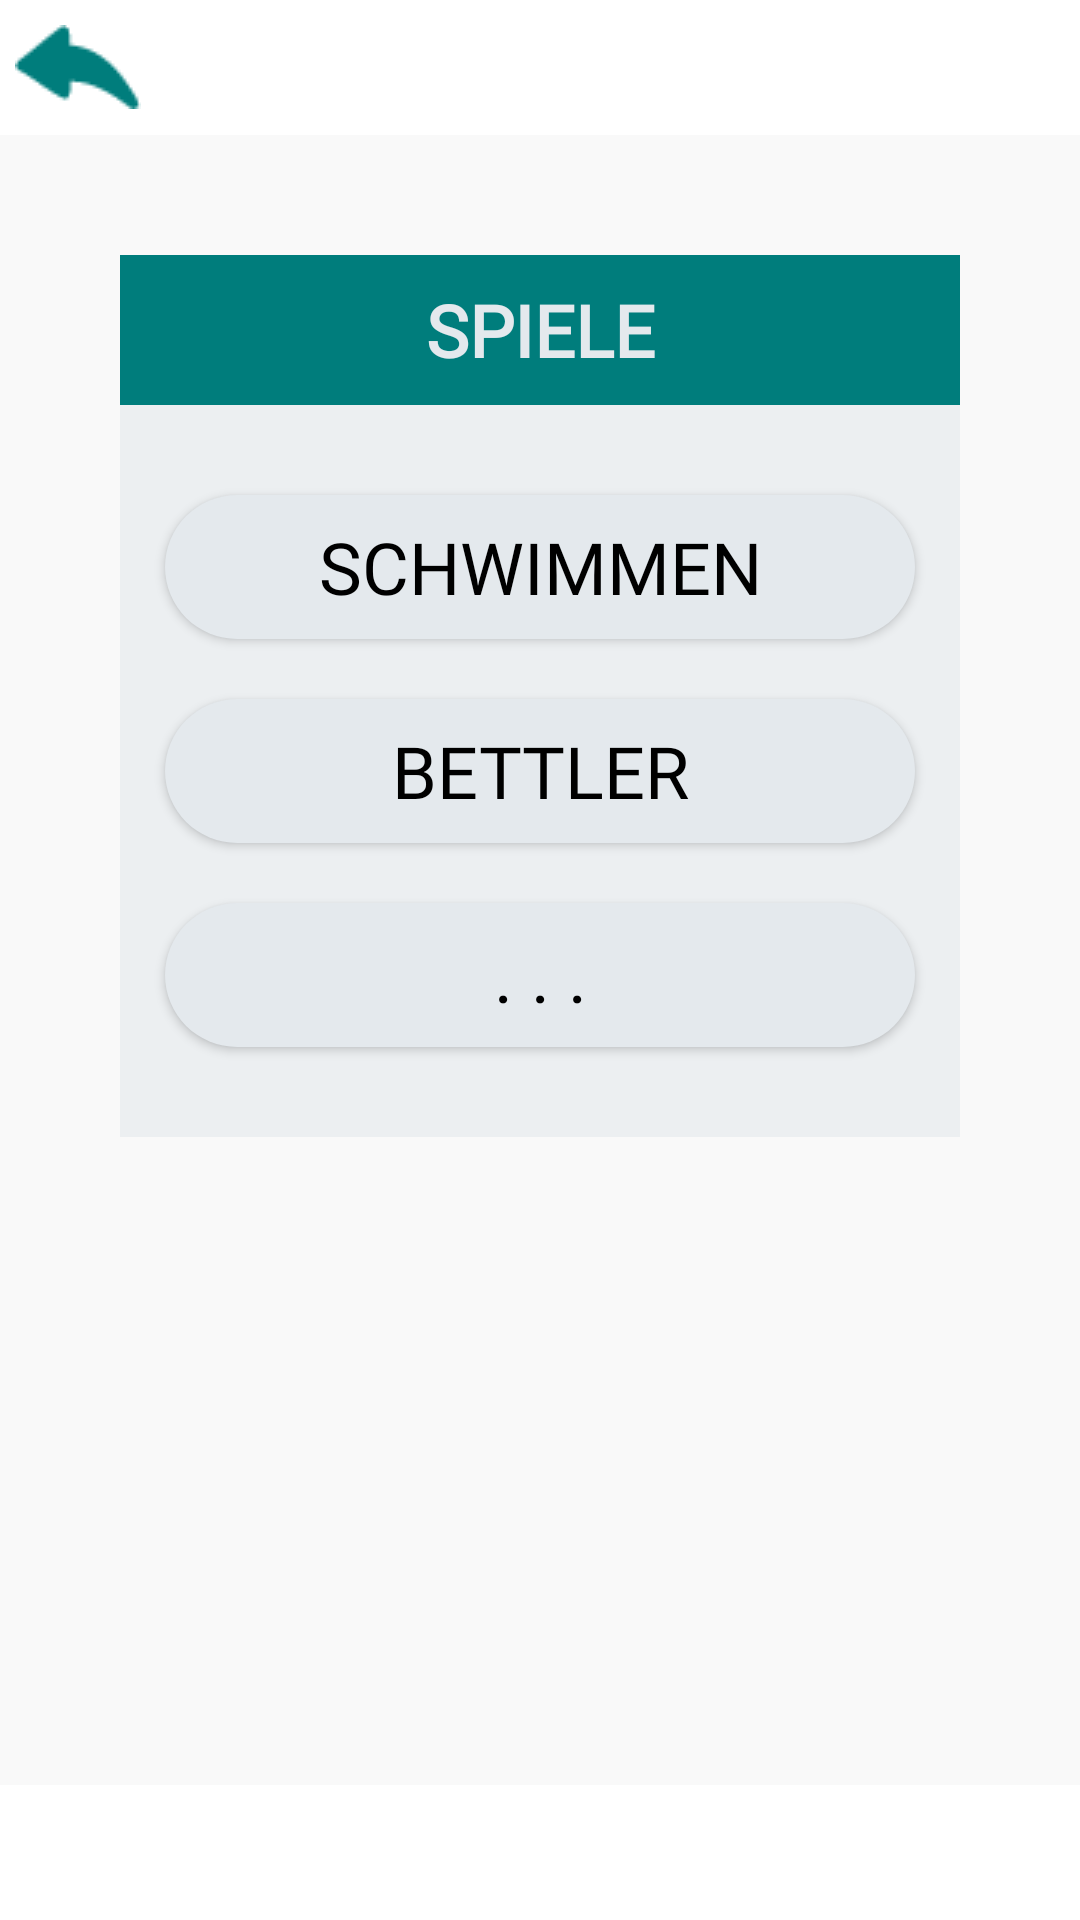

Point at icon controls on the screen. Image size 1080w x 1920h, points as (x=x, y=y).
back: (x=78, y=67)
